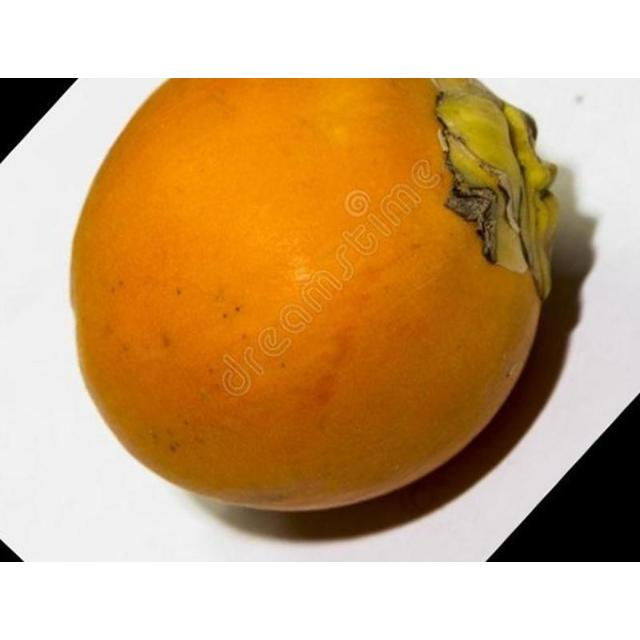good: (68, 78, 562, 518)
